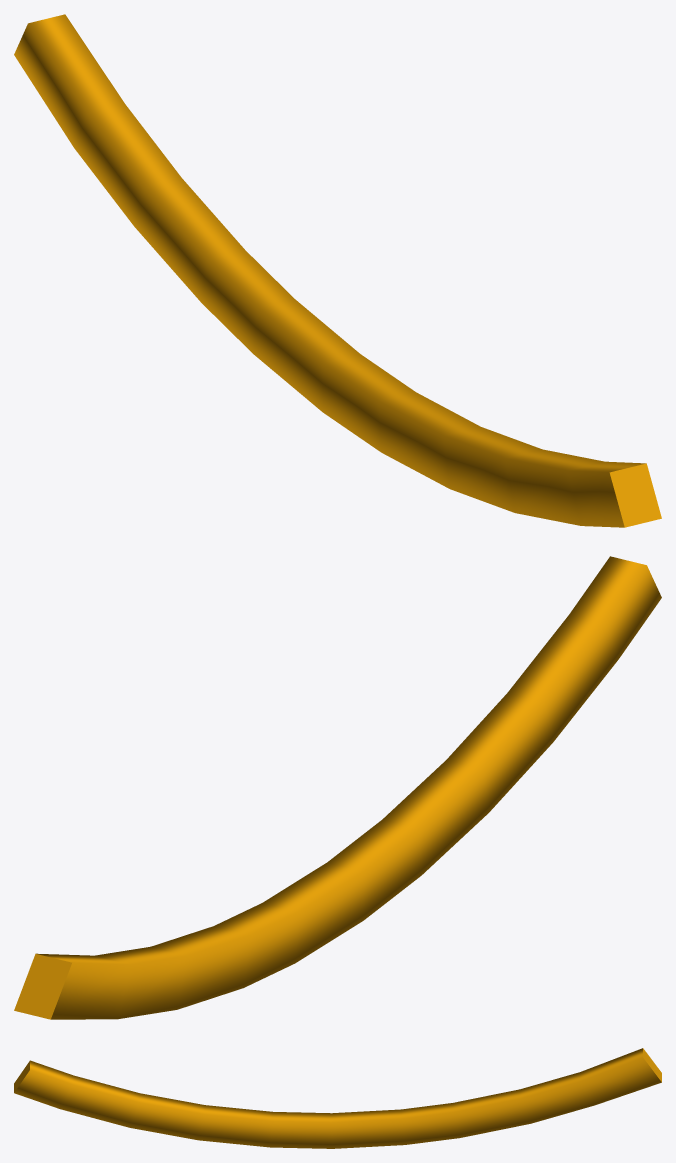
Rendered from Beam_01_Bend_06_M_Half.fbx.
3 views of the same model, one above another, from view 1: azimuth 30°, elevation 25°; view 2: azimuth 150°, elevation 25°; view 3: azimuth 270°, elevation 25° (orthographic). The views are drawn at different scales.
Parts seen in each view (by area): view 1: Beam_01_Bend_06_M_Half; view 2: Beam_01_Bend_06_M_Half; view 3: Beam_01_Bend_06_M_Half.
Part boxes in pixels (left/top/right/bottom): Beam_01_Bend_06_M_Half: left=14, top=14, right=661, bottom=527; Beam_01_Bend_06_M_Half: left=14, top=556, right=661, bottom=1019; Beam_01_Bend_06_M_Half: left=14, top=1048, right=661, bottom=1148.
Bounding box in the file's own units: 14.93 × 60.21 × 387.
